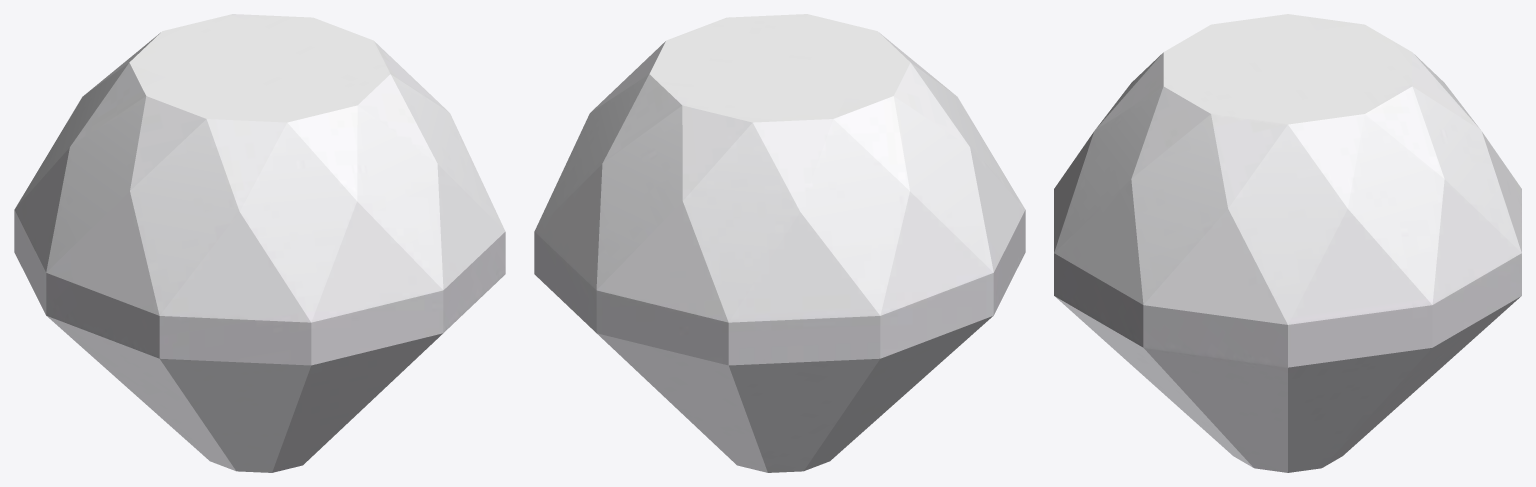
The model's file is pl_elmas.glb.
The picture shows the model from 3 angles, left to right: view 1: azimuth 30°, elevation 25°; view 2: azimuth 150°, elevation 25°; view 3: azimuth 270°, elevation 25°; orthographic projection.
Visible parts, largest first — view 1: pl_elmas; view 2: pl_elmas; view 3: pl_elmas.
Part boxes in pixels (left/top/right/bottom): pl_elmas: left=14, top=14, right=505, bottom=472; pl_elmas: left=534, top=14, right=1025, bottom=472; pl_elmas: left=1054, top=14, right=1521, bottom=472.
Bounding box in the file's own units: 1.46 × 1.24 × 1.39.
1 material, 1 textured.
